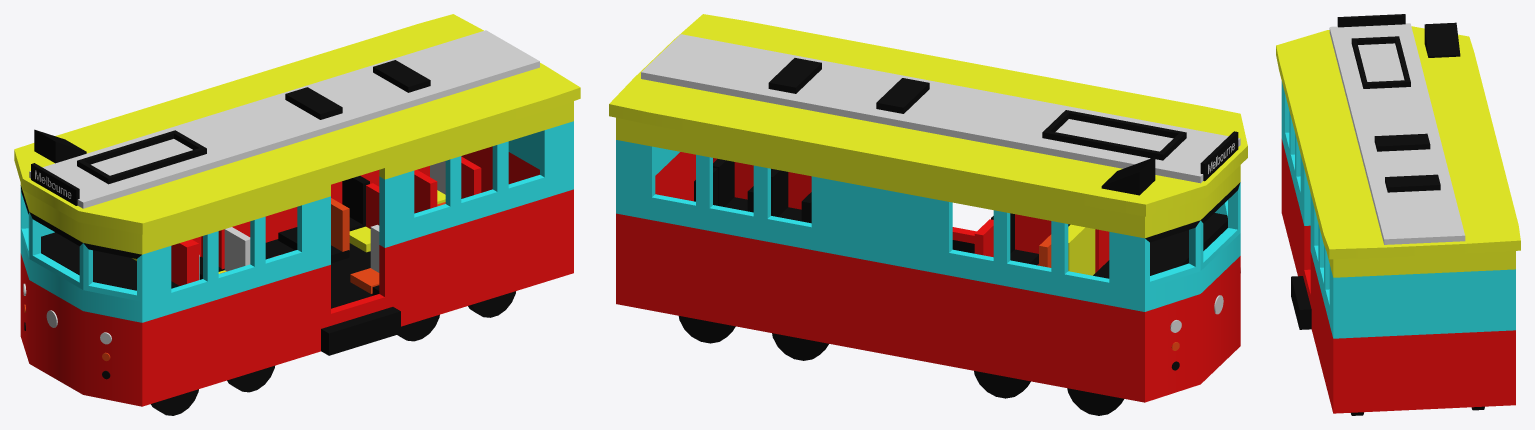
Rendered from Train.obj.
3 views of the same model, side by side, from view 1: azimuth 30°, elevation 25°; view 2: azimuth 150°, elevation 25°; view 3: azimuth 270°, elevation 25° (orthographic). The views are drawn at different scales.
Parts seen in each view (by area): view 1: Box22168, Box22158, Box22180, Box22166, Box22181, Box22150, Box22157, Box22172, Box22156, Box22185, Box22161, Box22171 (+9 smaller); view 2: Box22168, Box22166, Box22158, Box22151, Box22156, Box22157, Box22172, Cylinder1003, Cylinder999, Cylinder1004, Cylinder1000, Box22171 (+3 smaller); view 3: Box22168, Box22166, Box22156, Box22172, Box22157, Box22180, Box22171.
Boxes of the visible parts, box(x1,y1,x2,y2) form: Box22168: box(14, 14, 580, 406); Box22158: box(41, 232, 179, 290); Box22180: box(321, 307, 400, 355); Box22166: box(77, 130, 206, 184); Box22181: box(265, 239, 372, 308); Box22150: box(171, 239, 198, 285); Box22157: box(373, 60, 430, 92); Box22172: box(285, 87, 342, 119); Box22156: box(34, 129, 86, 163); Box22185: box(224, 227, 250, 271); Box22161: box(342, 176, 369, 224); Box22171: box(31, 163, 79, 205); Box22168: box(609, 14, 1247, 402); Box22166: box(1042, 110, 1186, 160); Box22158: box(1093, 213, 1227, 278); Box22151: box(1068, 224, 1095, 275); Box22156: box(1101, 157, 1155, 195); Box22157: box(768, 58, 821, 93); Box22172: box(876, 78, 929, 113); Cylinder1003: box(1067, 388, 1123, 415); Cylinder999: box(772, 333, 828, 360); Cylinder1004: box(678, 316, 735, 343); Cylinder1000: box(974, 371, 1030, 398); Box22171: box(1200, 131, 1238, 181); Box22168: box(1276, 23, 1520, 413); Box22166: box(1351, 36, 1410, 88); Box22156: box(1424, 22, 1460, 57); Box22172: box(1374, 133, 1430, 151); Box22157: box(1385, 174, 1440, 192); Box22180: box(1291, 276, 1311, 329); Box22171: box(1337, 14, 1405, 27).
Bounding box in the file's own units: 1047 × 472 × 485.
